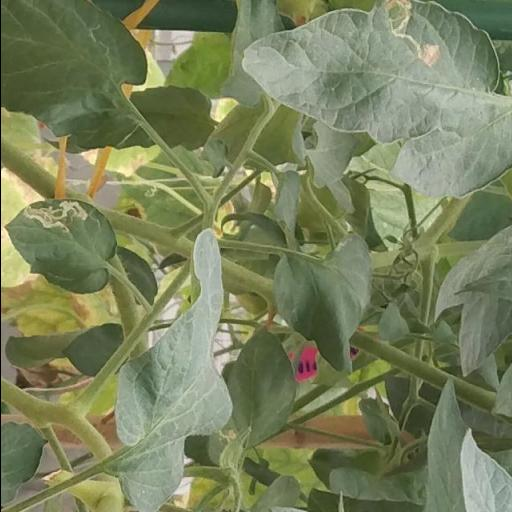Healthy: (112, 229, 232, 512)
Leaf Miner: (238, 0, 512, 198), (0, 195, 120, 296)
